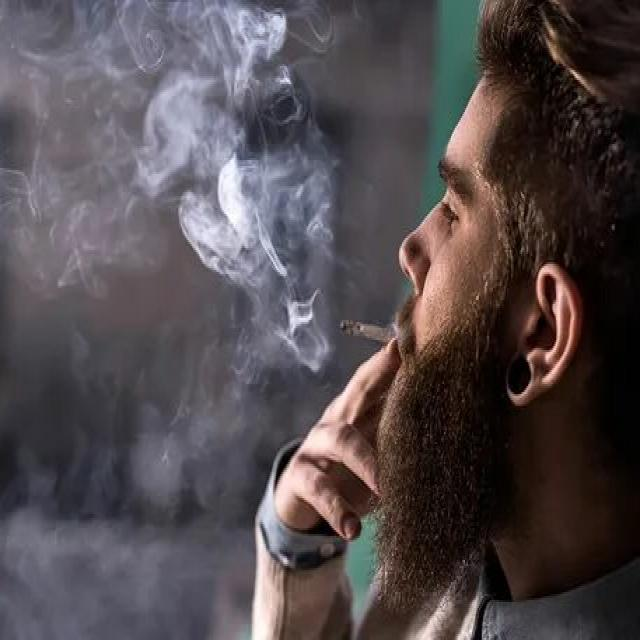smoke: (338, 316, 400, 348)
